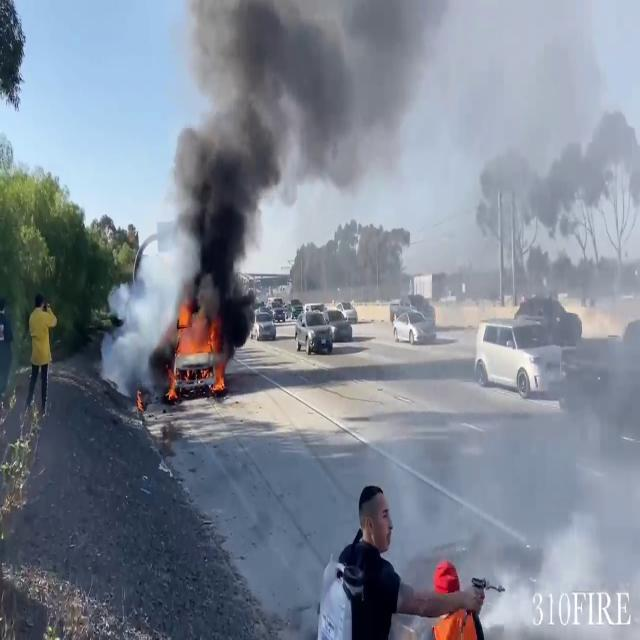Fire: (171, 307, 217, 367)
Smoke: (112, 0, 426, 358)
